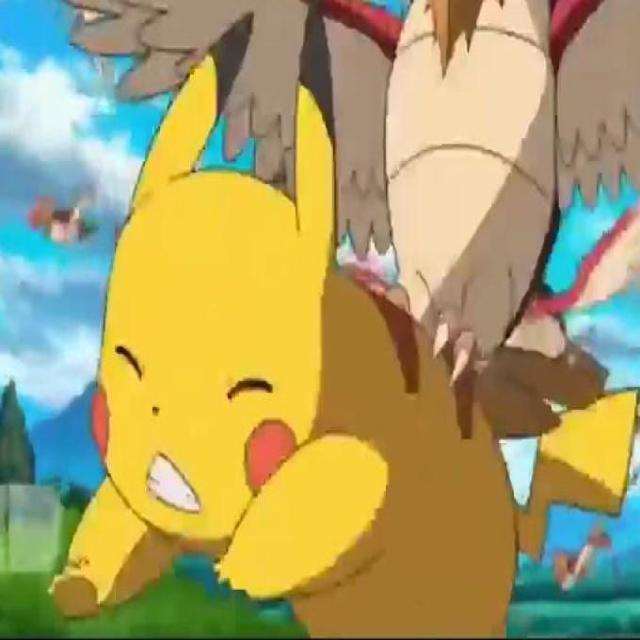pikachu: (51, 5, 635, 638)
